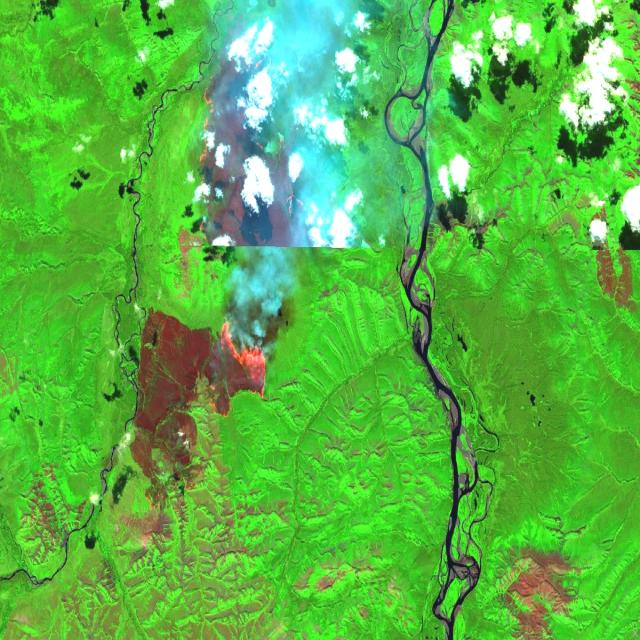fire: (191, 314, 273, 430), (193, 69, 226, 210)
